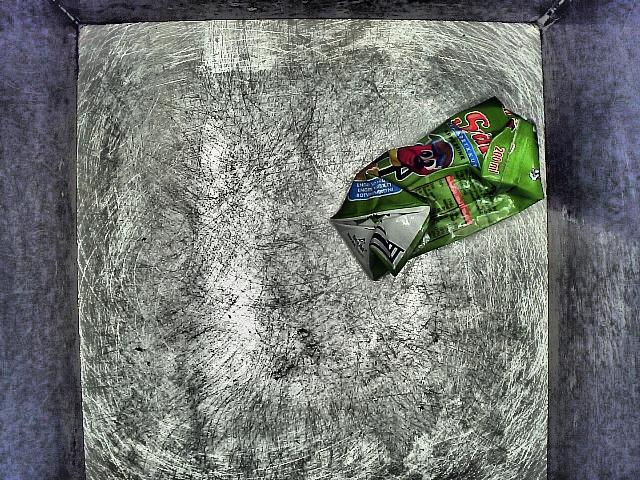Paper: (323, 94, 548, 285)
